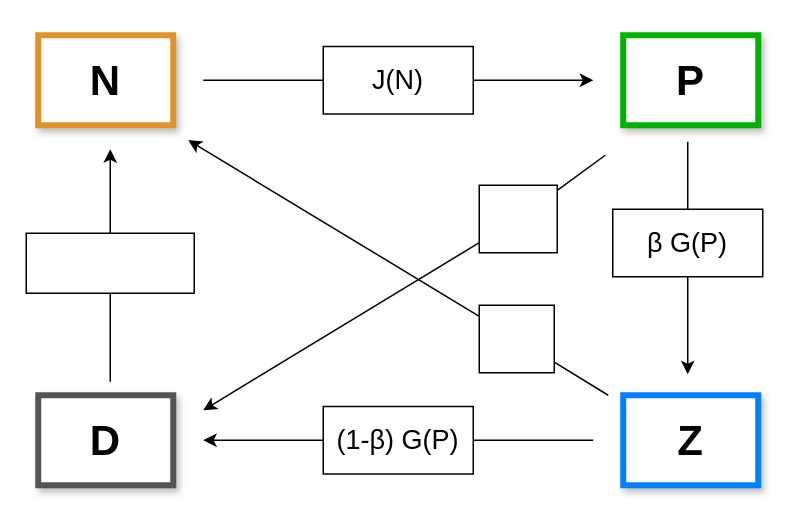
Image size: 797x524. Some labels were removed from this diagram. Here are the shapes that lost their labels. From the top down, the centre of each, then its label:
(517,218): Φk
(109,262): γm
(516,338): Φz
